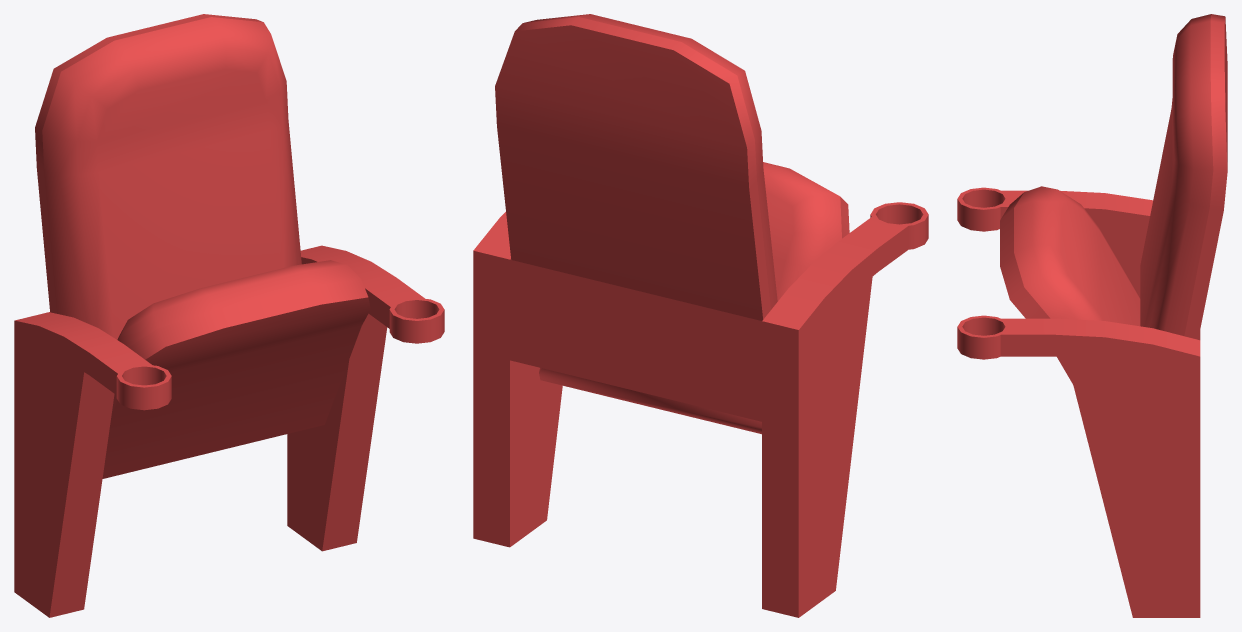
File: seat.glb
3 views of the same model, side by side, from view 1: azimuth 30°, elevation 25°; view 2: azimuth 150°, elevation 25°; view 3: azimuth 270°, elevation 25° (orthographic). The views are drawn at different scales.
Visible parts, largest first — view 1: Seat; view 2: Seat; view 3: Seat.
Boxes of the visible parts, x1=… form: Seat: x1=14, y1=14, x2=444, y2=617; Seat: x1=473, y1=14, x2=928, y2=617; Seat: x1=957, y1=14, x2=1227, y2=617.
Size of the model in its own units: 29.13 by 45.37 by 22.12.
